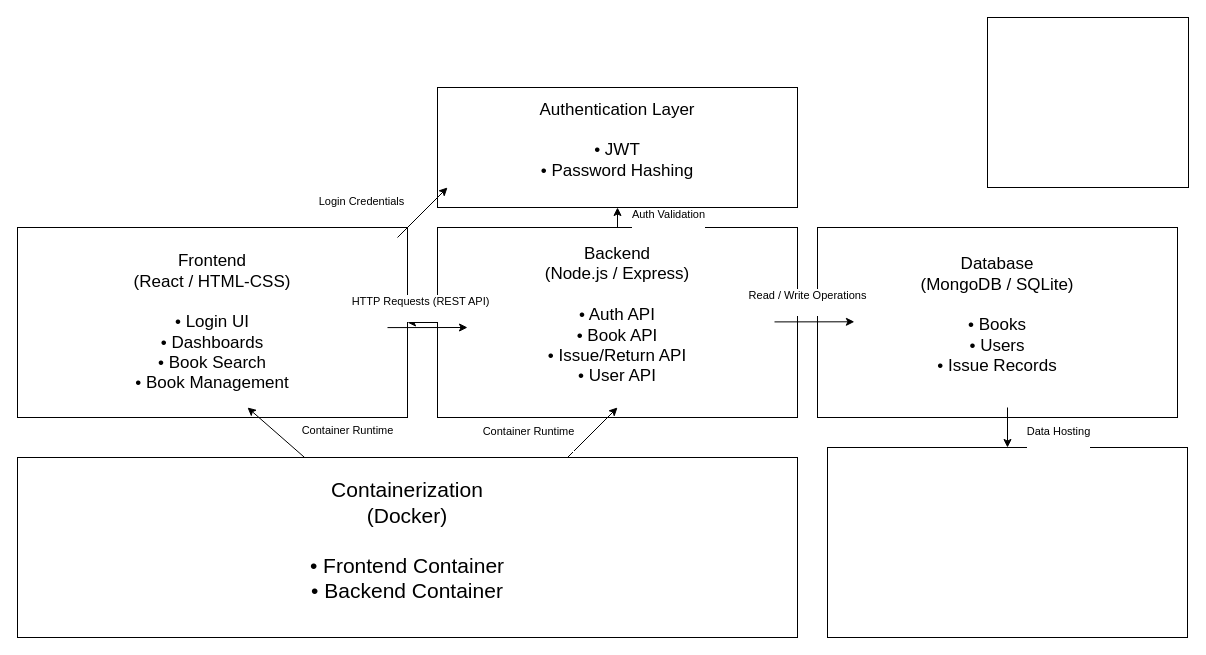
This 1206x655 diagram has some shape labels left out. Each missing label, with the box of its shape:
Deployment / Infrastructure • Localhost • Cloud (Future): (826, 446, 1188, 638)
Legend: → Data Flow Rectangle: System Component Dashed Arrow: Optional Flow: (986, 16, 1188, 188)
